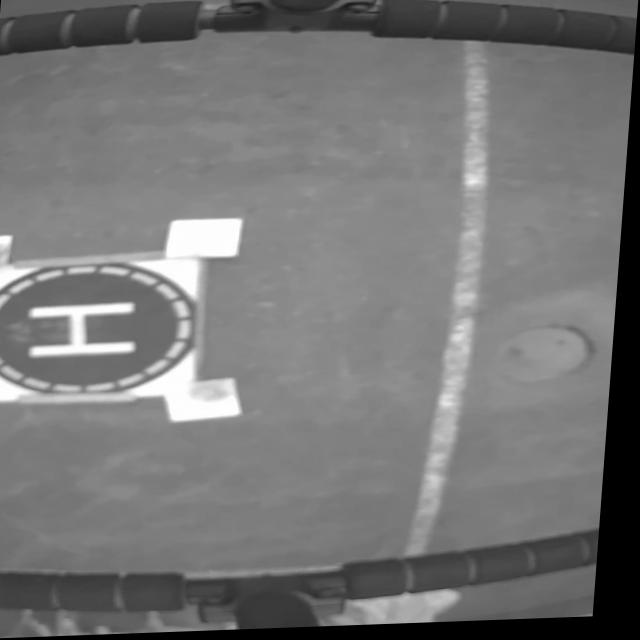Helipad: (34, 303, 141, 357)
